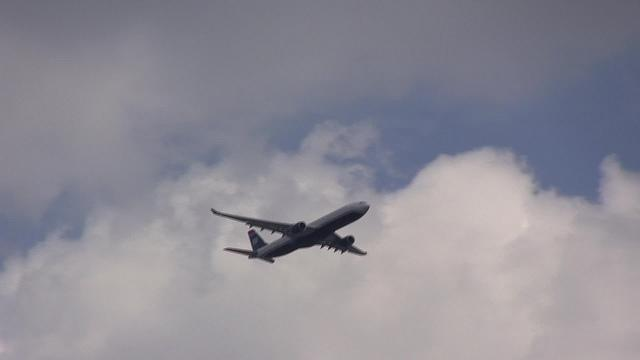airplane: (208, 198, 372, 264)
